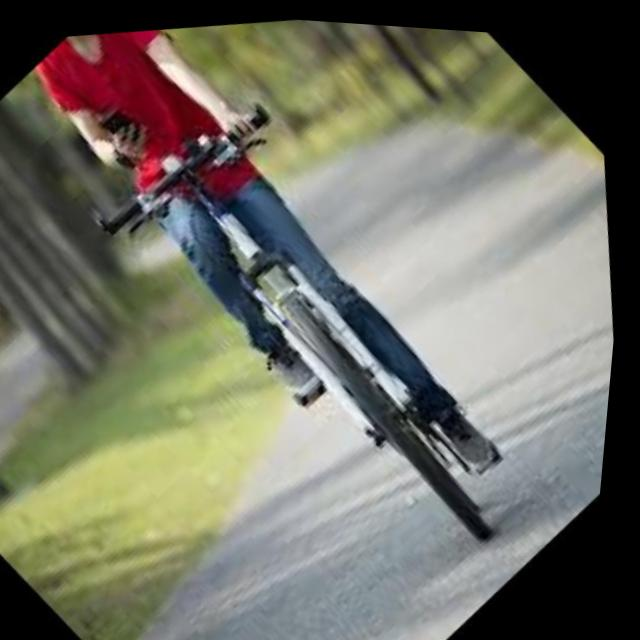USING_MOBILE: (57, 67, 176, 187)
